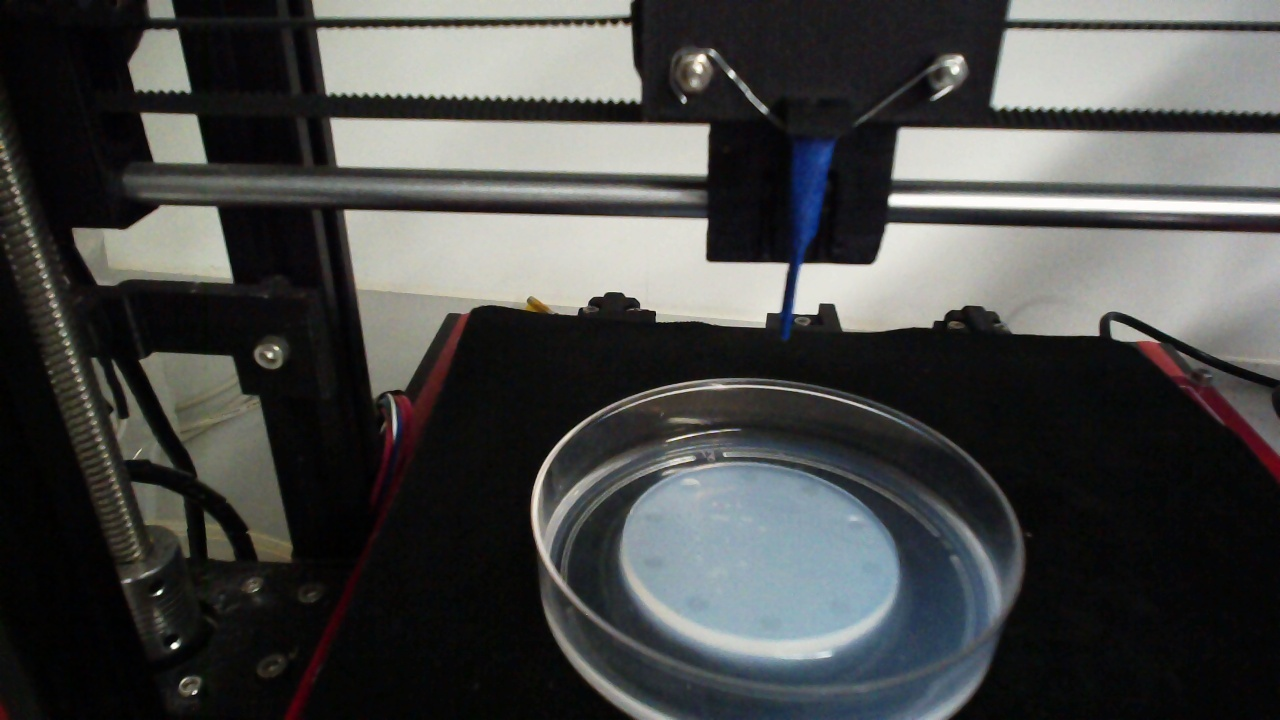groove: (826, 594, 855, 613), (641, 551, 666, 572), (685, 594, 711, 614), (756, 613, 782, 631), (859, 560, 886, 577), (677, 476, 703, 493), (798, 481, 821, 498), (643, 510, 667, 526), (736, 470, 760, 484), (845, 516, 867, 531)
needle: (780, 135, 831, 343)
